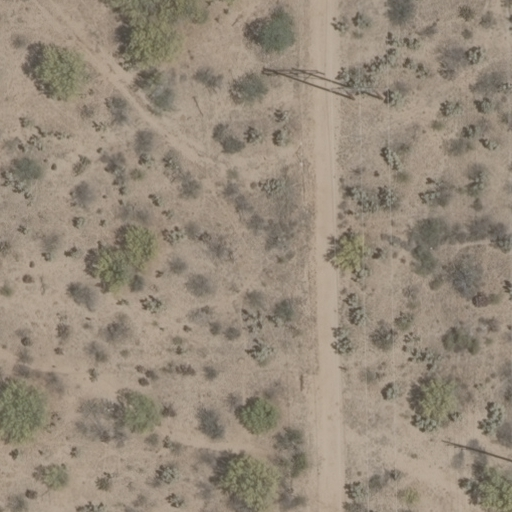DT: (325, 76, 404, 108)
